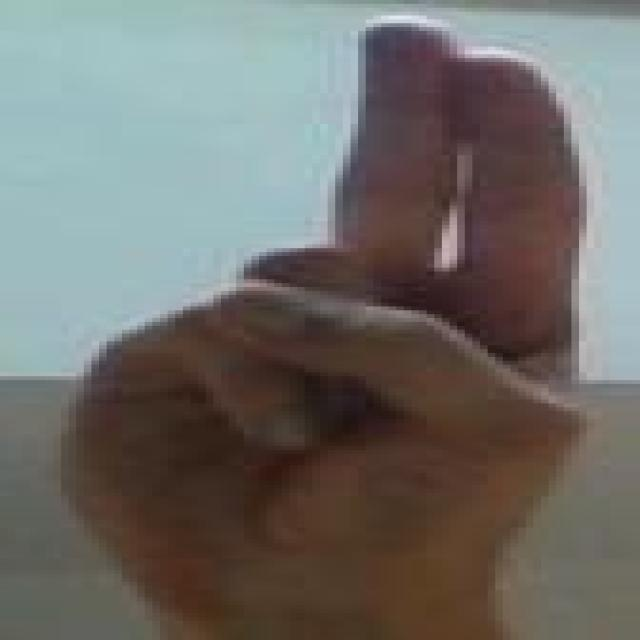U: (6, 6, 640, 541)
